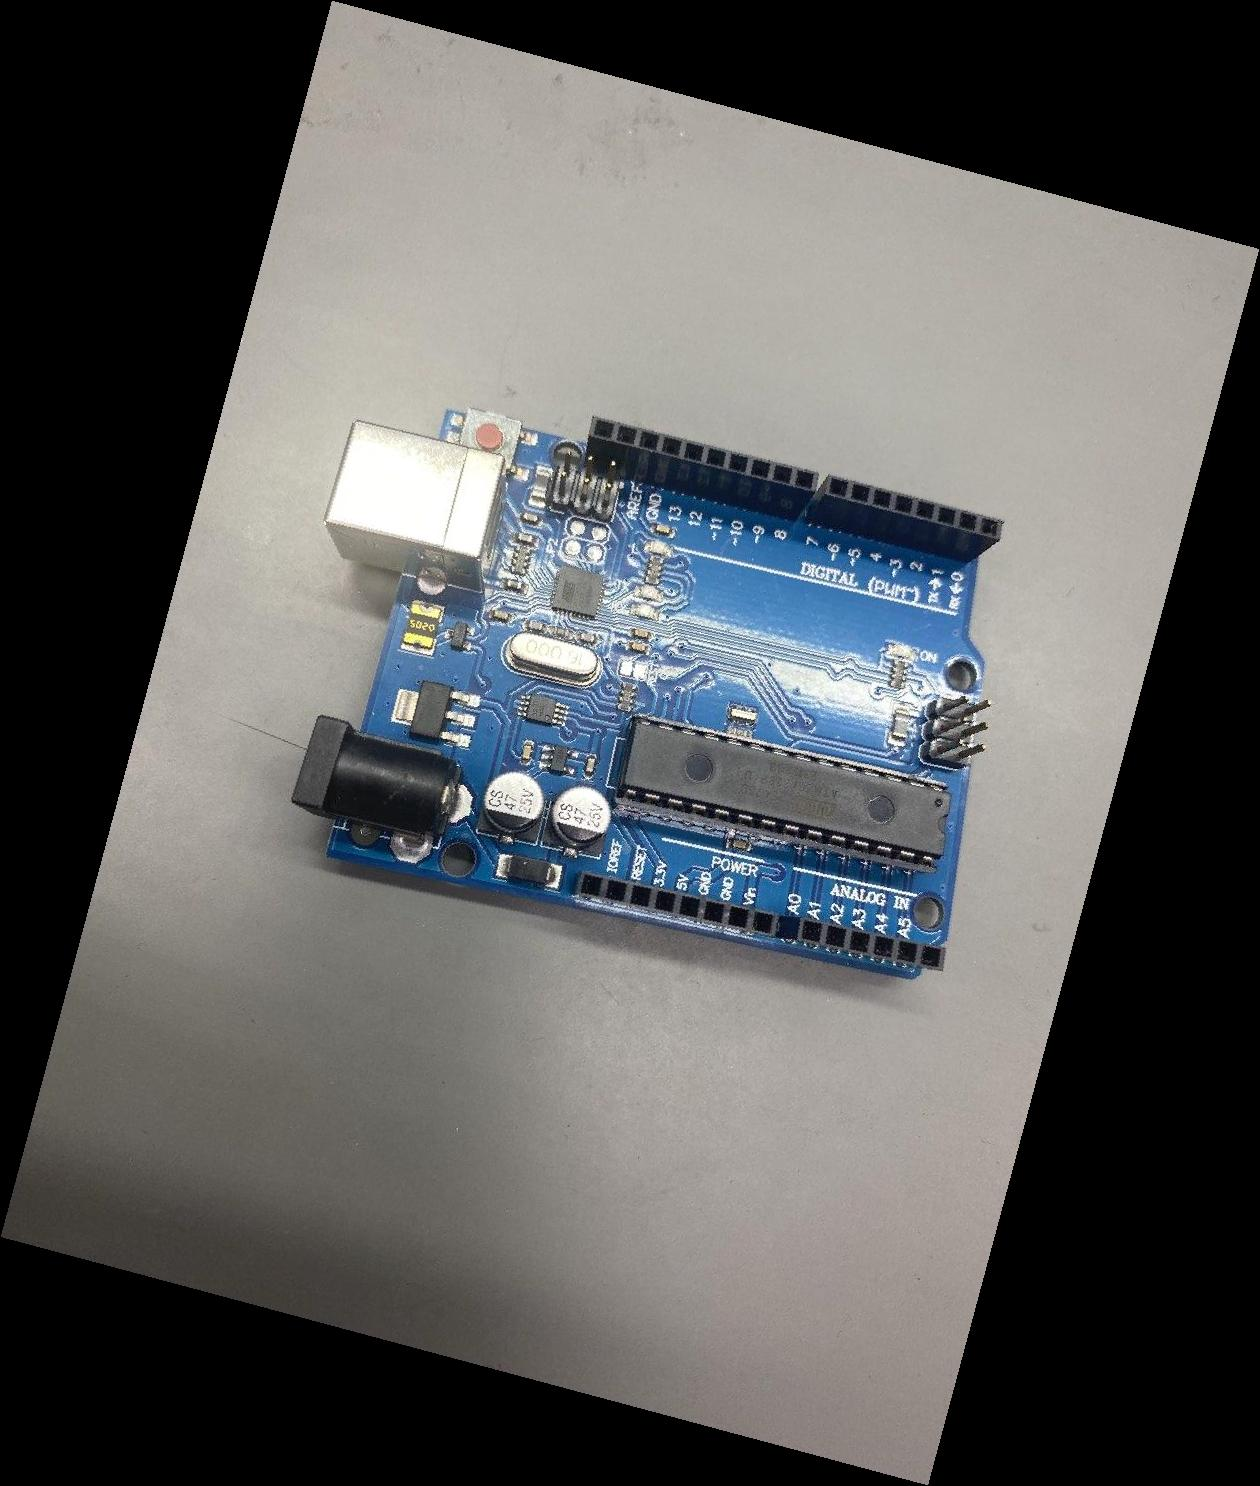ATmega328 chip: (614, 711, 952, 874)
Arduino board: (290, 406, 1004, 980)
USB: (324, 419, 507, 594)
capacitor: (484, 771, 545, 831), (551, 785, 610, 846)
pins: (584, 416, 820, 522), (802, 474, 1005, 565), (574, 870, 780, 939), (775, 916, 947, 971)
resistor: (509, 545, 532, 577), (616, 681, 639, 714), (644, 554, 665, 586), (889, 657, 910, 690)
